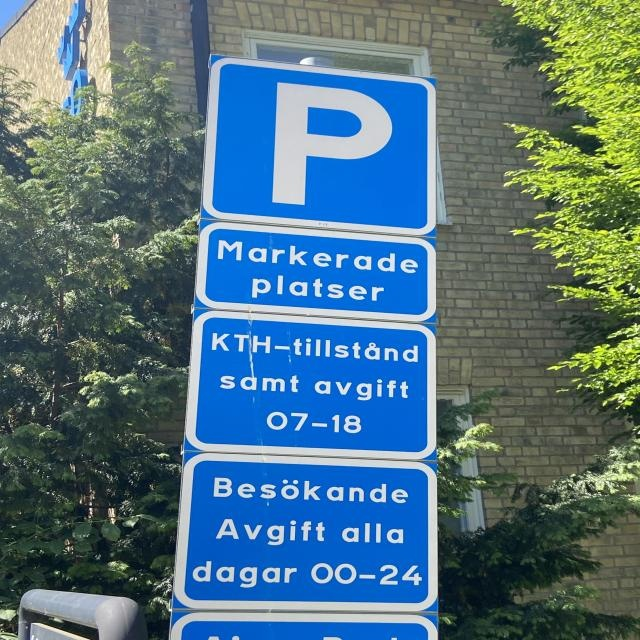P-skylt: (212, 56, 435, 230)
